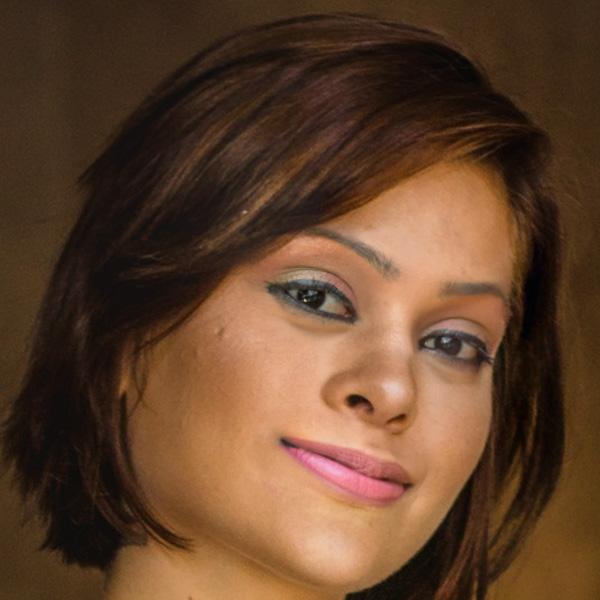Eyes: (262, 260, 367, 337), (414, 308, 494, 380)
